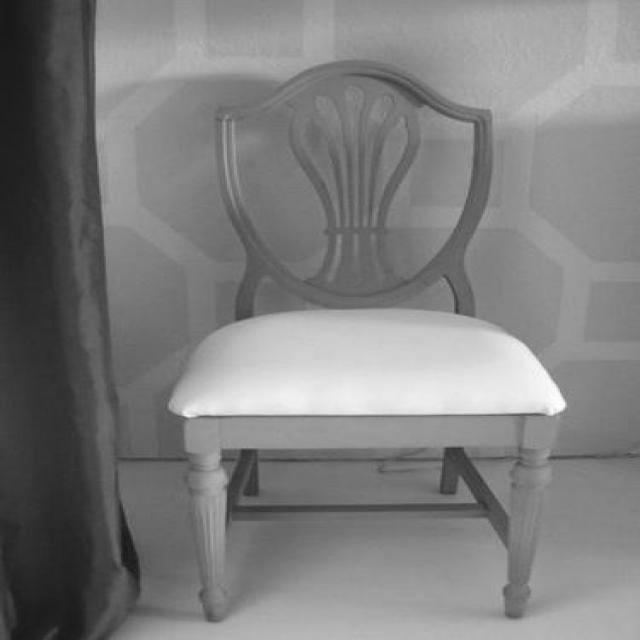chair: (168, 54, 565, 624)
